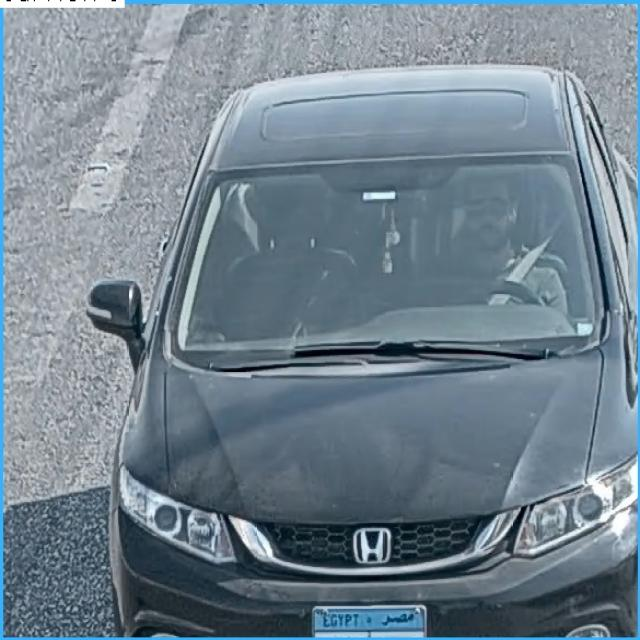windshield: (163, 173, 600, 347)
